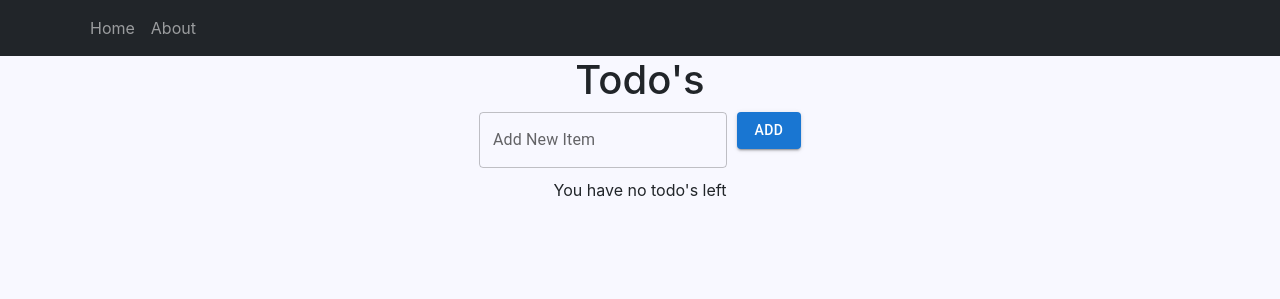
Test: test that App component can be deleted thru checkbox
The width and height of the screenshot is (1280, 299).
Type "History Test" into the field labelled "Add New Item" at (603,140), box [479,112,727,168]
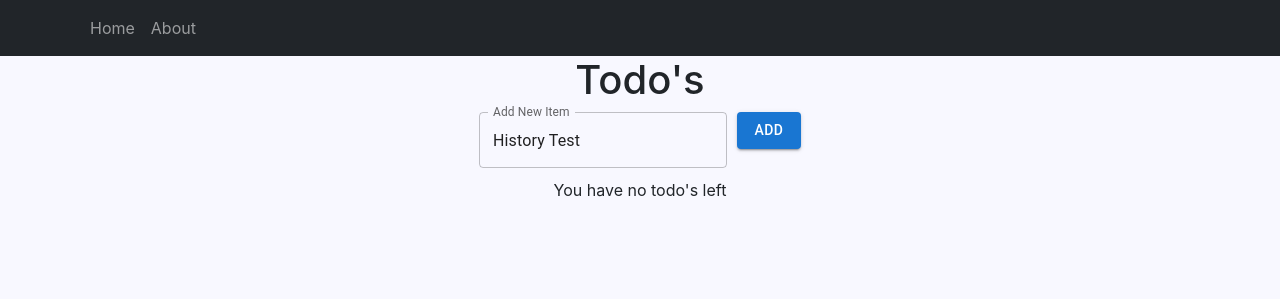
Click the button "Add" at (769,130), box [737,112,801,148]
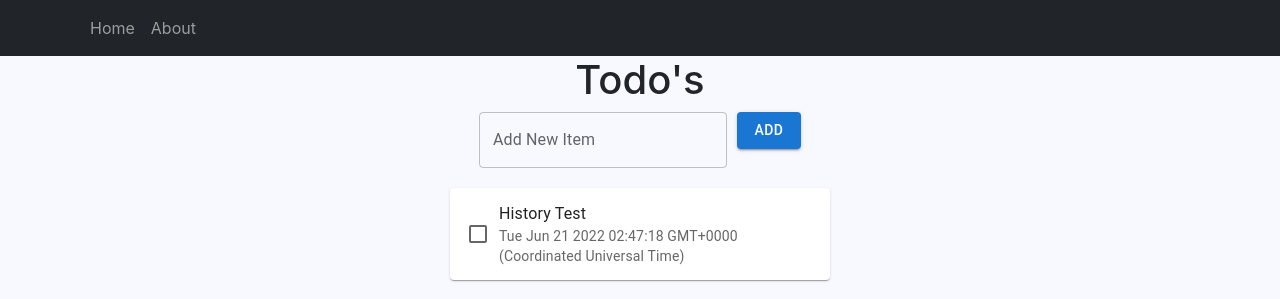
Click the checkbox at (478,234), box [466,222,490,246]
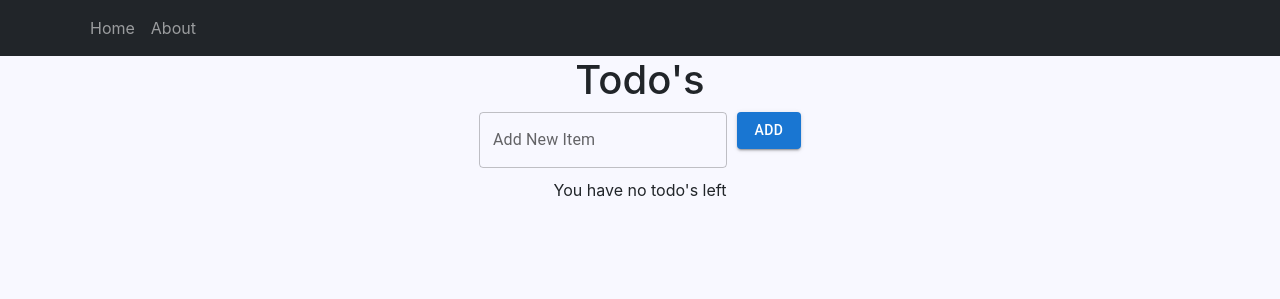
Result: the text "You have no todo's left" is shown at [554,180,726,200]
